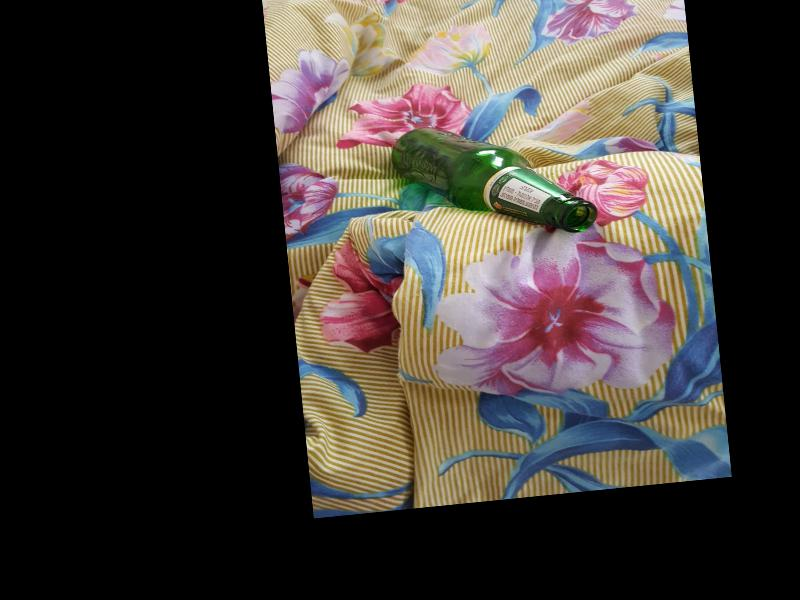Beer: (391, 112, 598, 250)
